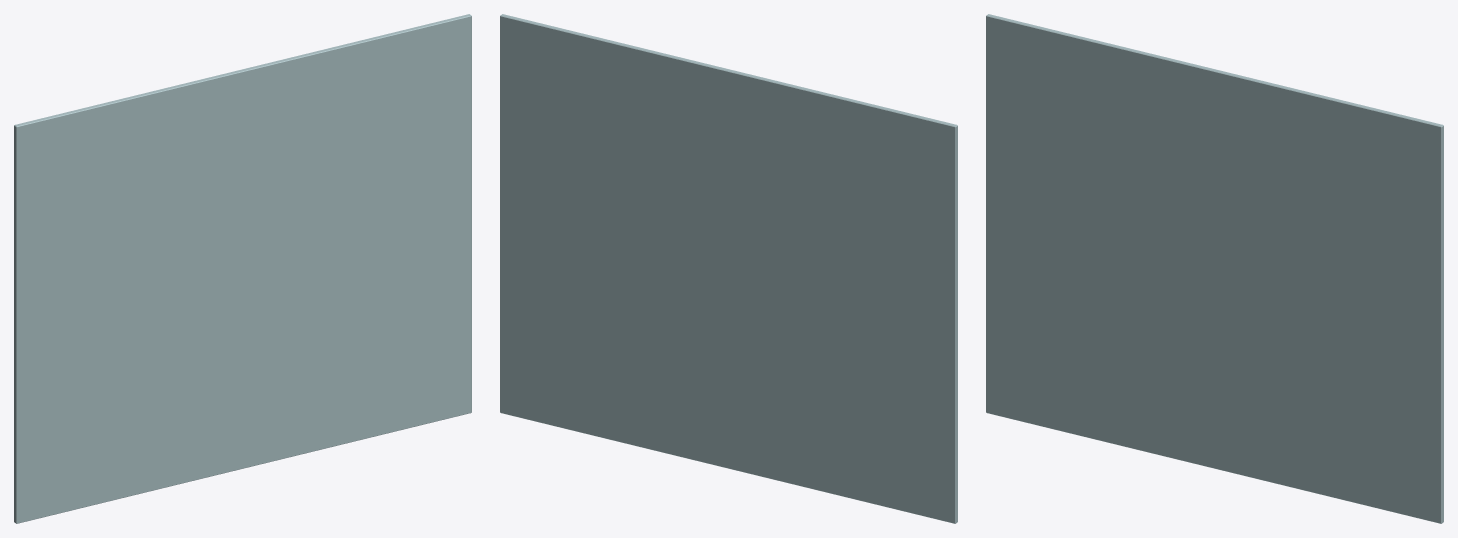
The model's file is stock_rejected_a4f9447.glb.
The picture shows the model from 3 angles, left to right: view 1: azimuth 30°, elevation 25°; view 2: azimuth 150°, elevation 25°; view 3: azimuth 330°, elevation 25°; orthographic projection.
Visible parts, largest first — view 1: acrylic_acrylic_stock_sheet; view 2: acrylic_acrylic_stock_sheet; view 3: acrylic_acrylic_stock_sheet.
Boxes of the visible parts, x1,y1,x2,y2 form: acrylic_acrylic_stock_sheet: (14,14,471,523); acrylic_acrylic_stock_sheet: (500,14,957,523); acrylic_acrylic_stock_sheet: (986,14,1443,523).
Bounding box in the file's own units: 0.3 × 0.25 × 0.003.
